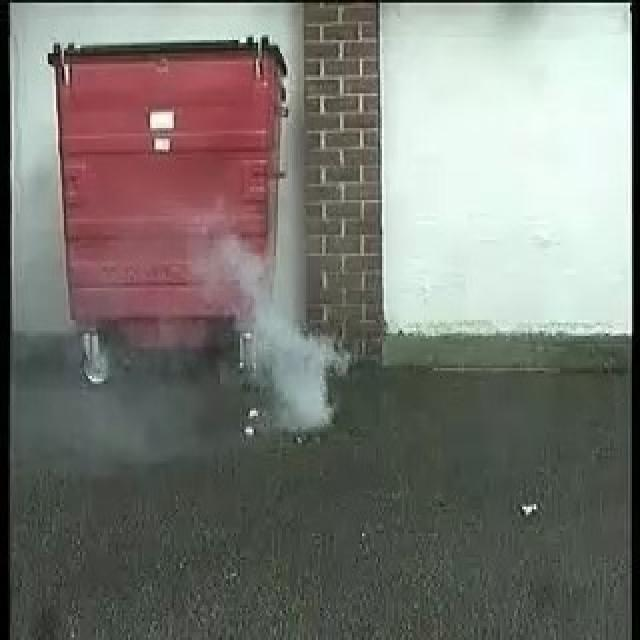Smoke: (228, 242, 334, 428)
